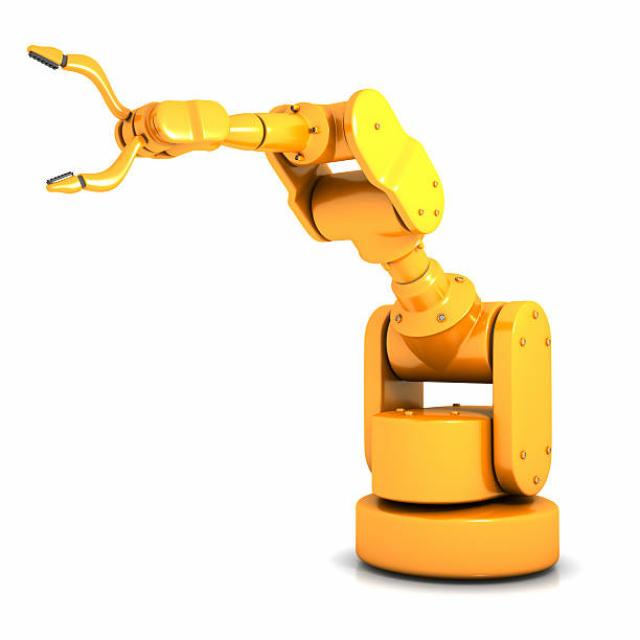Robotic-arm: (26, 23, 570, 589)
